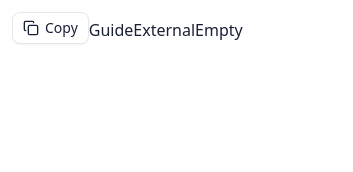
Scenario: public product demo › handles unavailable clipboard and internal and external links
Click the button "Copy". click: click(50, 28)
box: [12,12,89,44]
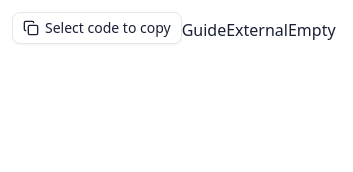
Now the button "Select code to copy" is shown, box [12,12,182,44]
